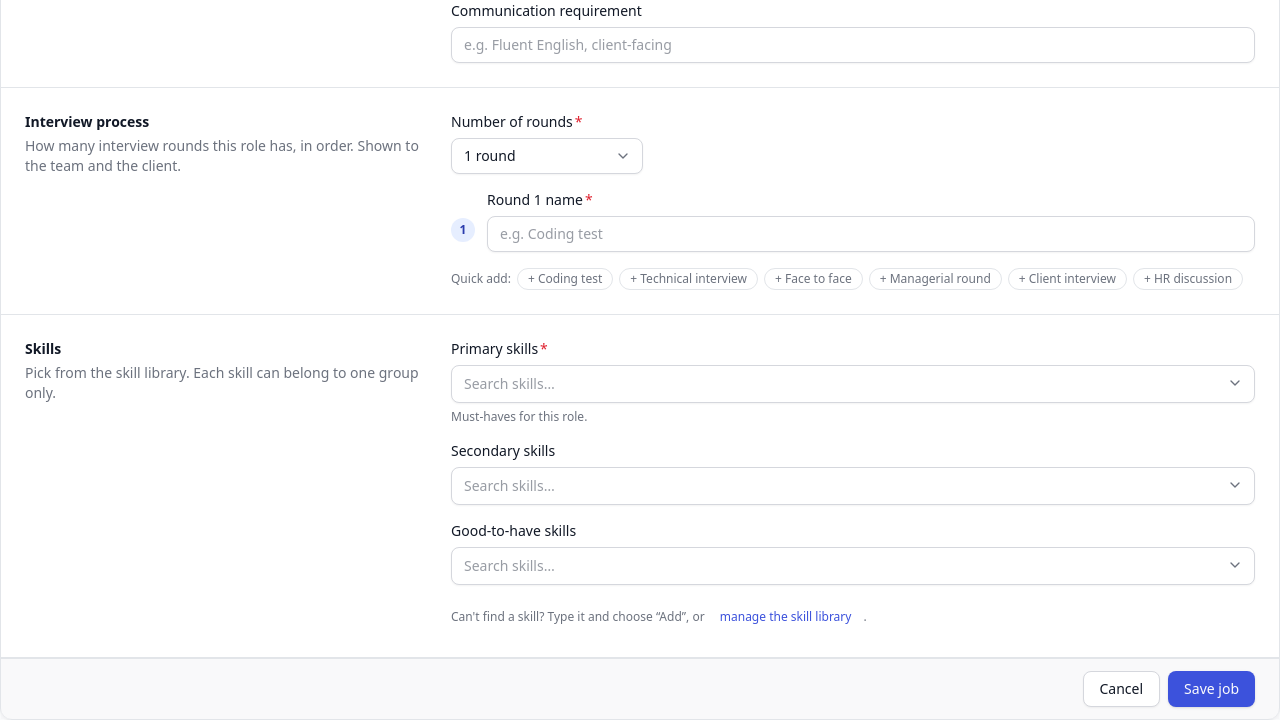
JobFormPage › adds a missing skill to the library from the dropdown
(page scrolled)
Type "Kafka" into the dropdown labelled "Primary skills*". click: (838, 384)
box: x1=458 y1=370 x2=1218 y2=398
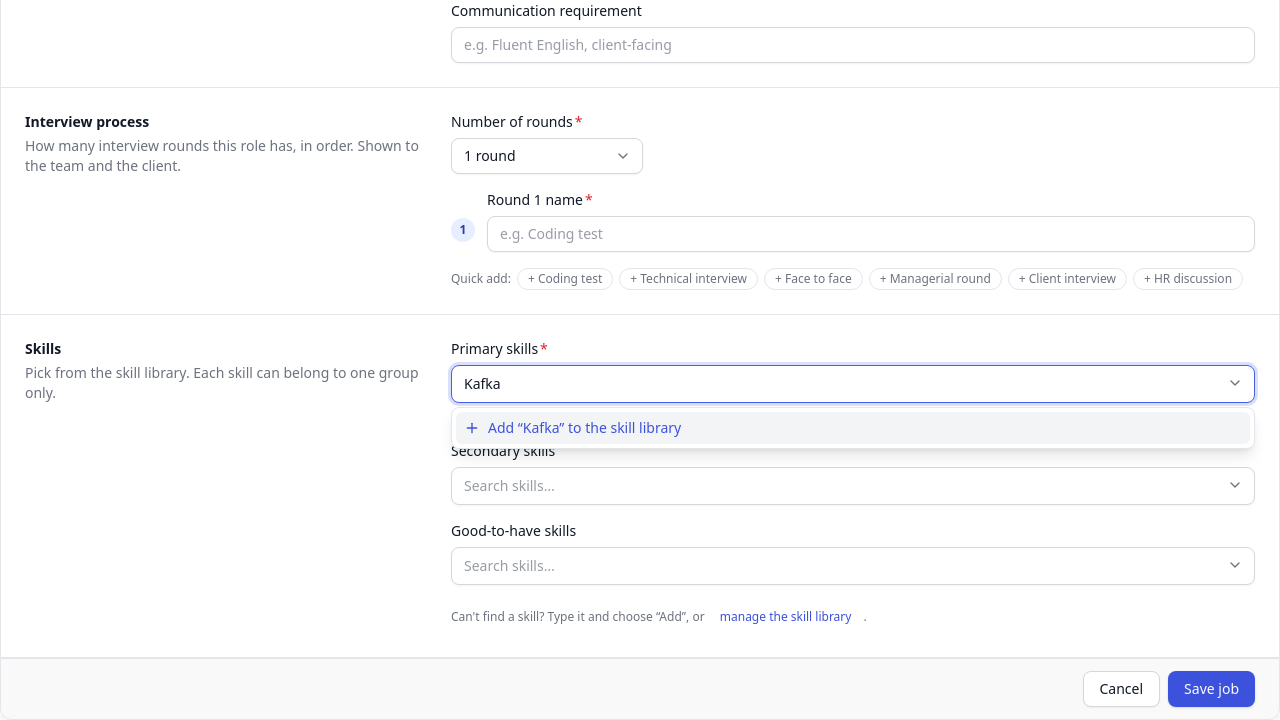
Click the option "Add “Kafka” to the skill library". click: (585, 427)
box: x1=456 y1=412 x2=1250 y2=444
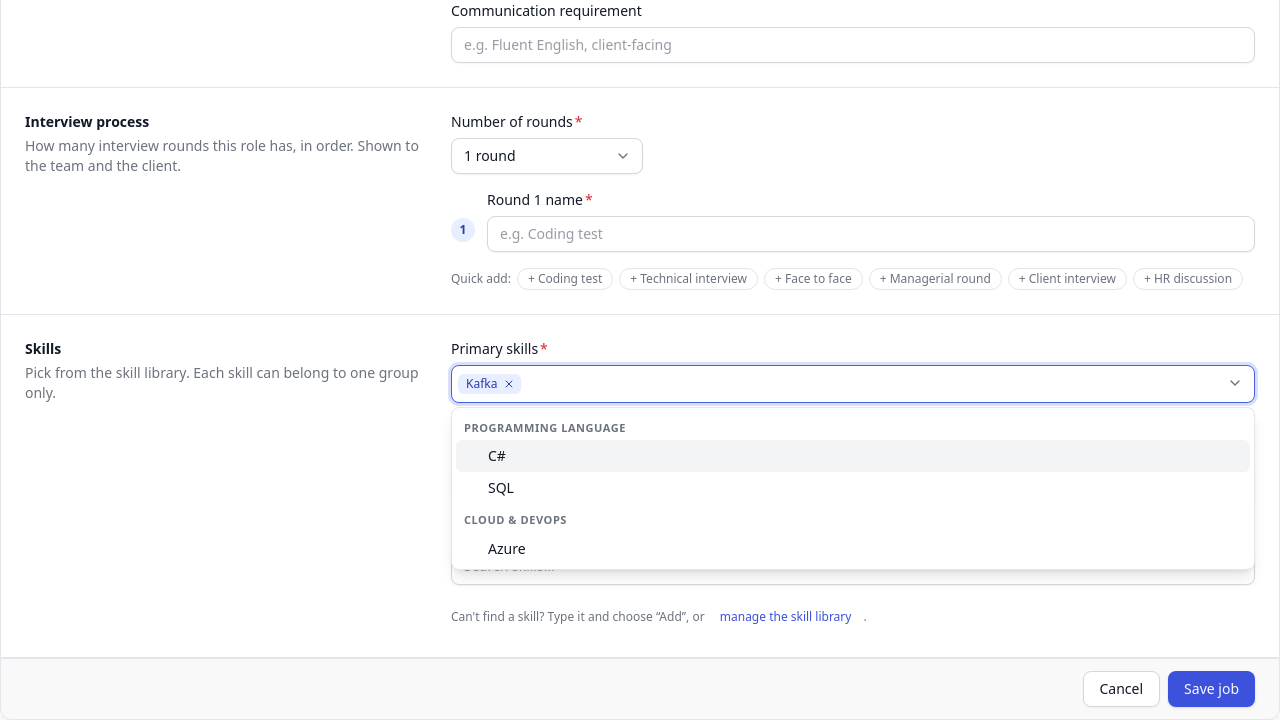
Expected: the button named "Remove skill Kafka" is shown, x1=501 y1=376 x2=517 y2=392
